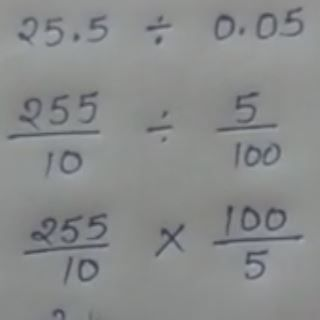.: (70, 31, 82, 45), (237, 24, 247, 38)
0: (212, 12, 236, 43), (255, 12, 279, 42), (76, 257, 101, 284), (59, 149, 83, 177), (239, 204, 263, 232), (264, 207, 288, 232), (243, 142, 264, 168), (263, 141, 283, 167)
1: (41, 148, 55, 181), (62, 254, 75, 287), (223, 203, 235, 237), (233, 140, 243, 171)
2: (29, 216, 59, 246), (17, 96, 43, 130), (16, 14, 39, 47)
5: (232, 90, 259, 125), (279, 5, 306, 39), (243, 247, 270, 280), (58, 213, 85, 244), (76, 91, 100, 125), (84, 13, 110, 43), (84, 212, 110, 242), (43, 16, 65, 48), (49, 93, 70, 126)
